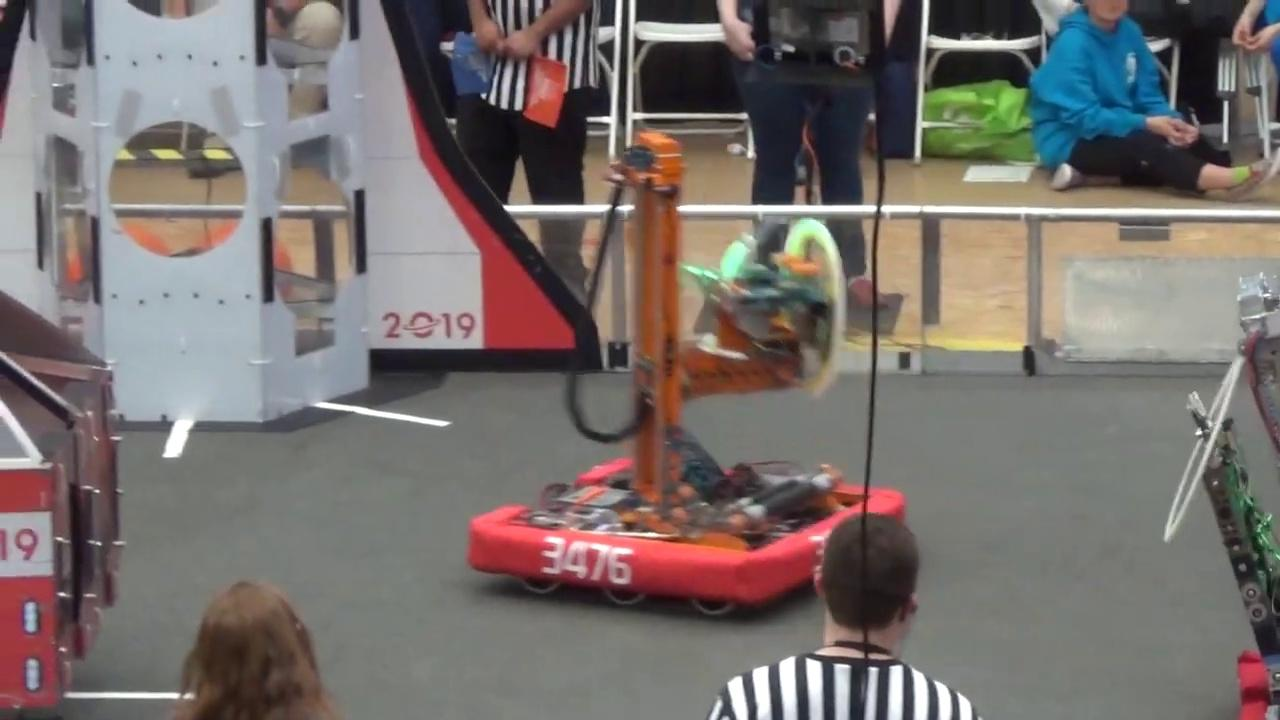robot: (463, 128, 904, 626)
